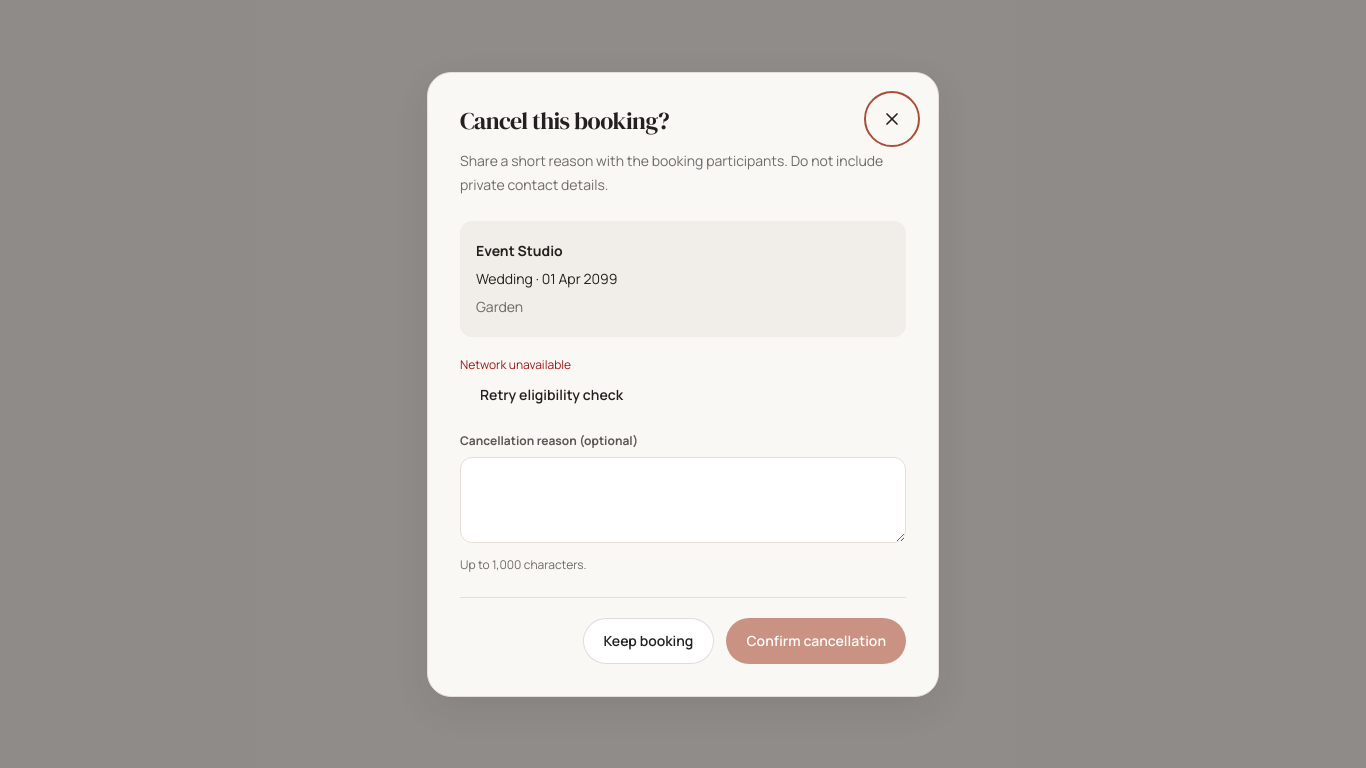
Test: cancellation policy controls › keeps failed eligibility checks blocked and supports a safe reload
expect the message shows "Network unavailable": met, box [460,356,571,372]
expect the button "Confirm cancellation" is disabled: met, box [726,618,906,664]
Click the button "Retry eligibility check". click: (552, 394)
box: [460,372,643,416]
(page scrolled)
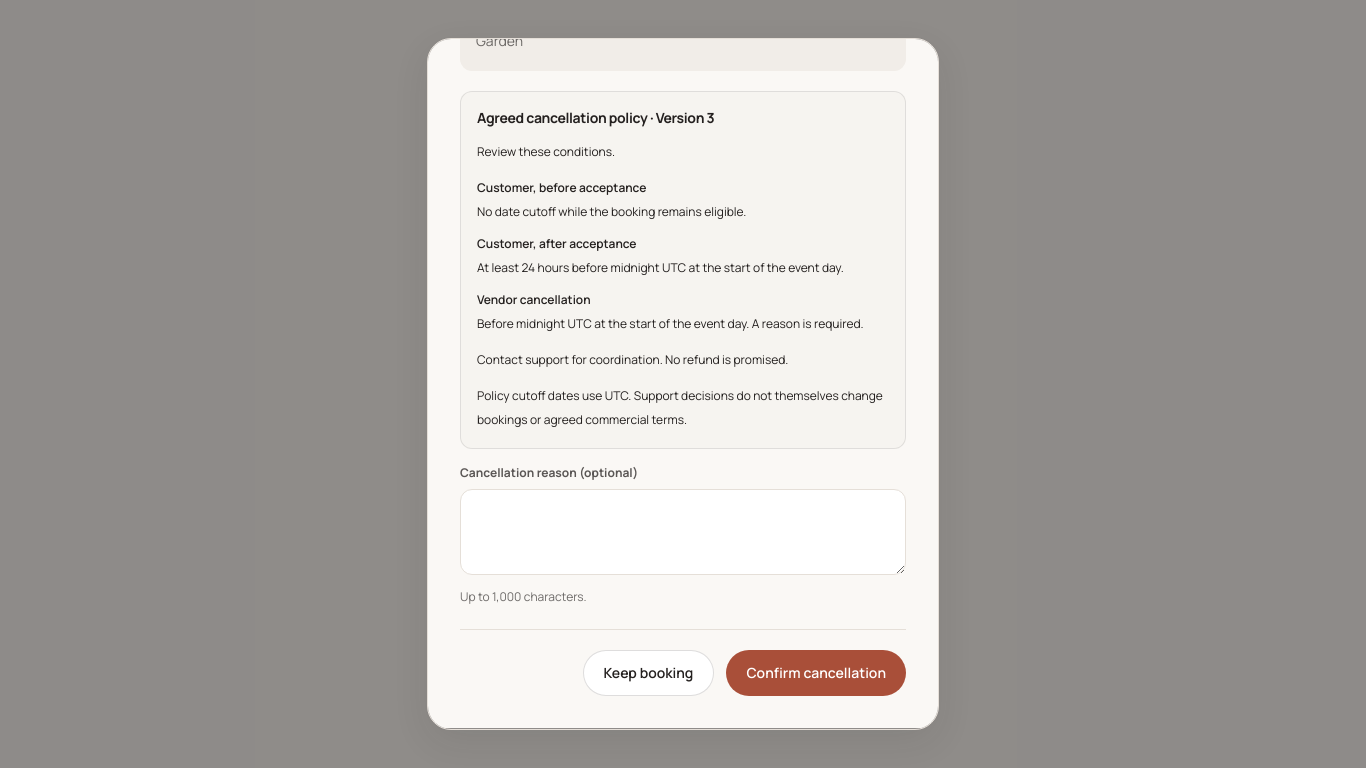
expect the button "Confirm cancellation" is enabled: met, box [726,650,906,696]
